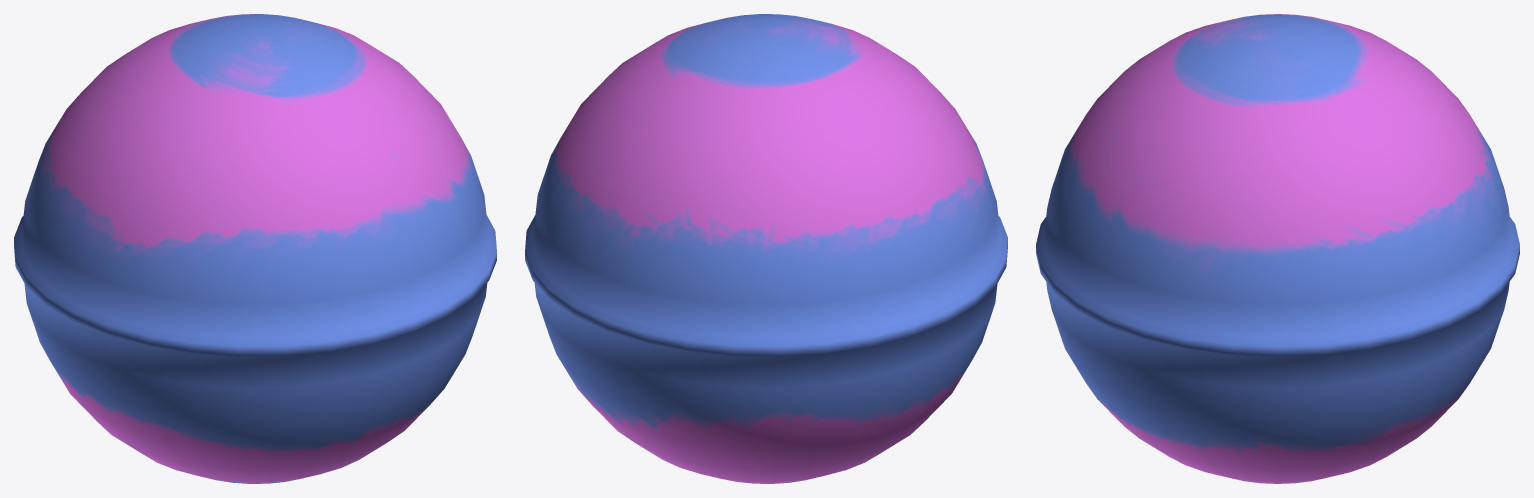
Rendered from bath-bomb.gltf.
3 renders of one model, left to right at view 1: azimuth 30°, elevation 25°; view 2: azimuth 150°, elevation 25°; view 3: azimuth 270°, elevation 25°, orthographic.
Parts seen in each view (by area): view 1: Sphere; view 2: Sphere; view 3: Sphere.
Part boxes in pixels (x1,y1,x2,y2): Sphere: (14,14,496,483); Sphere: (525,14,1007,483); Sphere: (1036,14,1519,483).
Bounding box in the file's own units: 2.06 × 2 × 2.06.
1 material, 1 textured.
